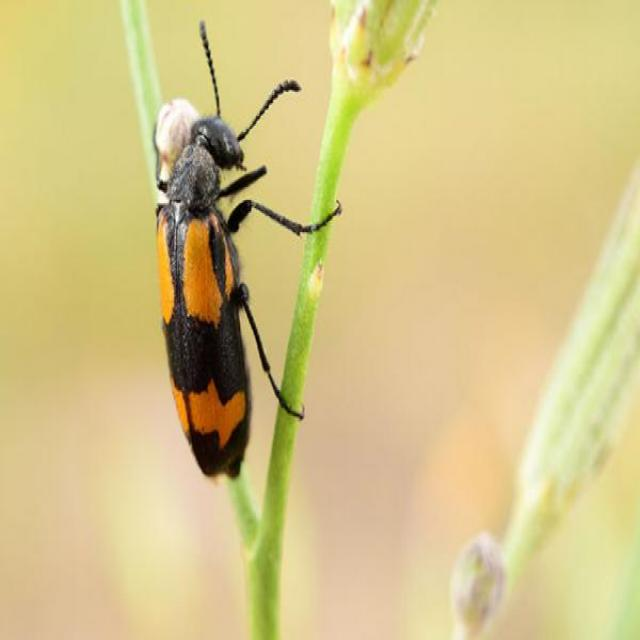BlisterBeetle-Adult-: (148, 15, 349, 492)
